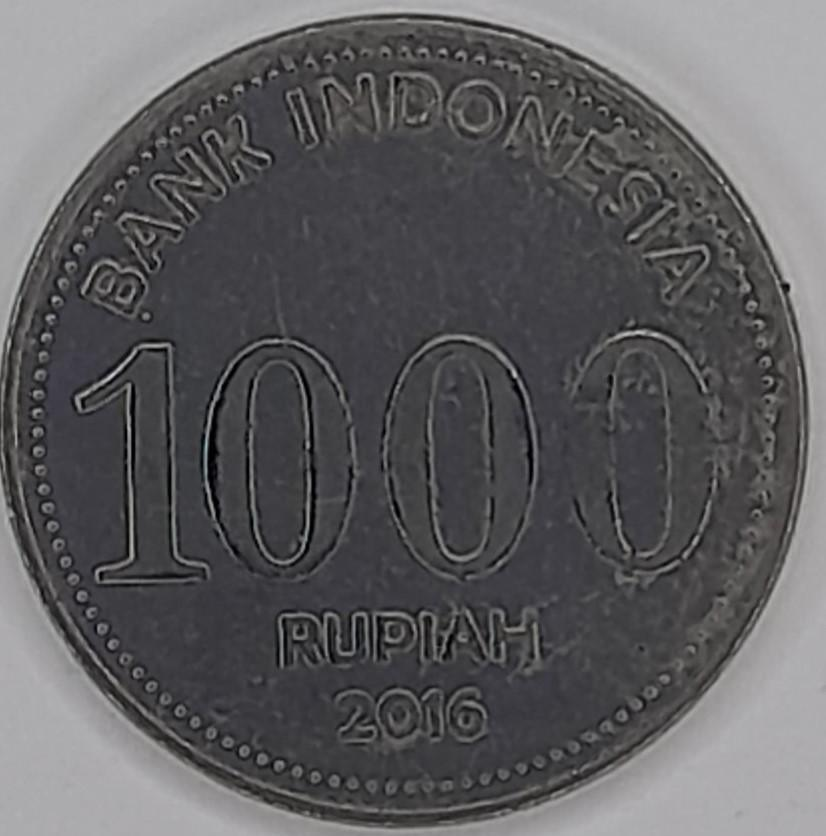coin_1000_e2016: (14, 17, 815, 836)
